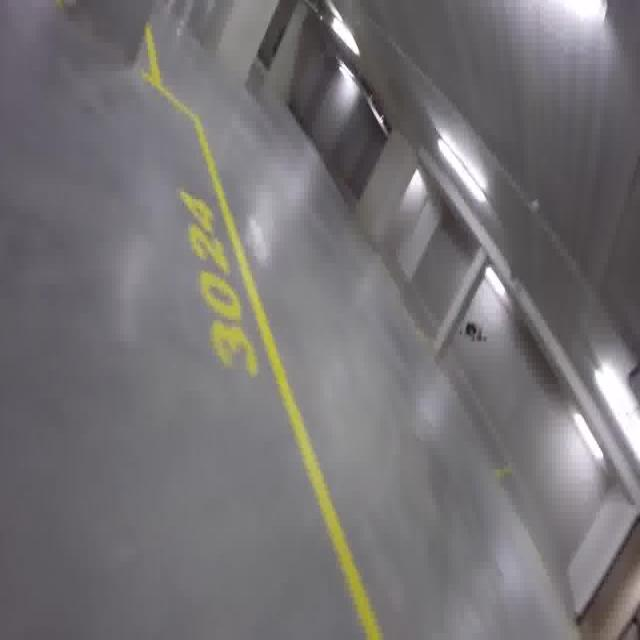drones: (454, 311, 492, 354)
